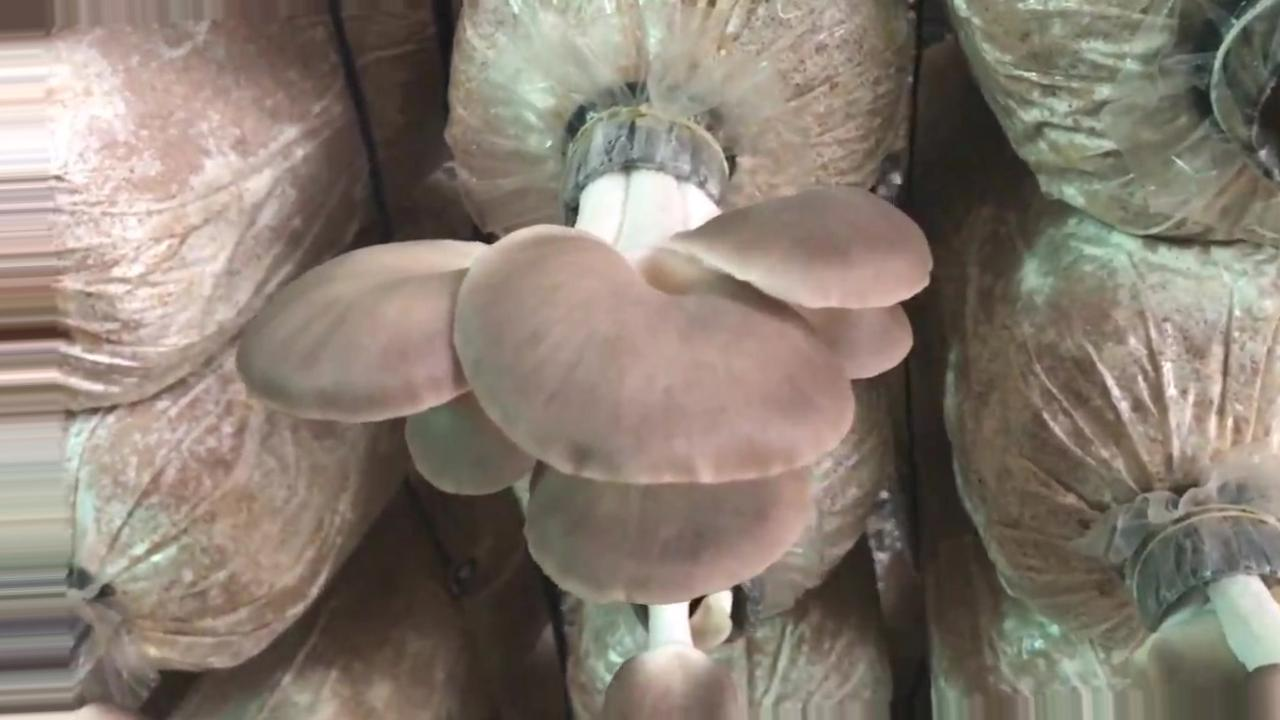nam: (239, 112, 934, 605), (1145, 516, 1280, 716), (602, 587, 742, 720)
